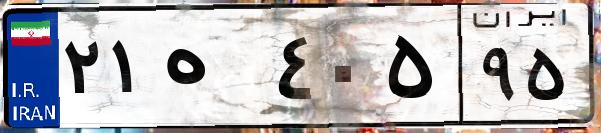0: (330, 28, 385, 110)
1: (110, 28, 158, 98)
2: (57, 26, 110, 100)
4: (270, 28, 330, 110)
5: (385, 28, 445, 110), (525, 38, 570, 115)
9: (475, 38, 525, 113)
ه: (158, 20, 270, 120)
